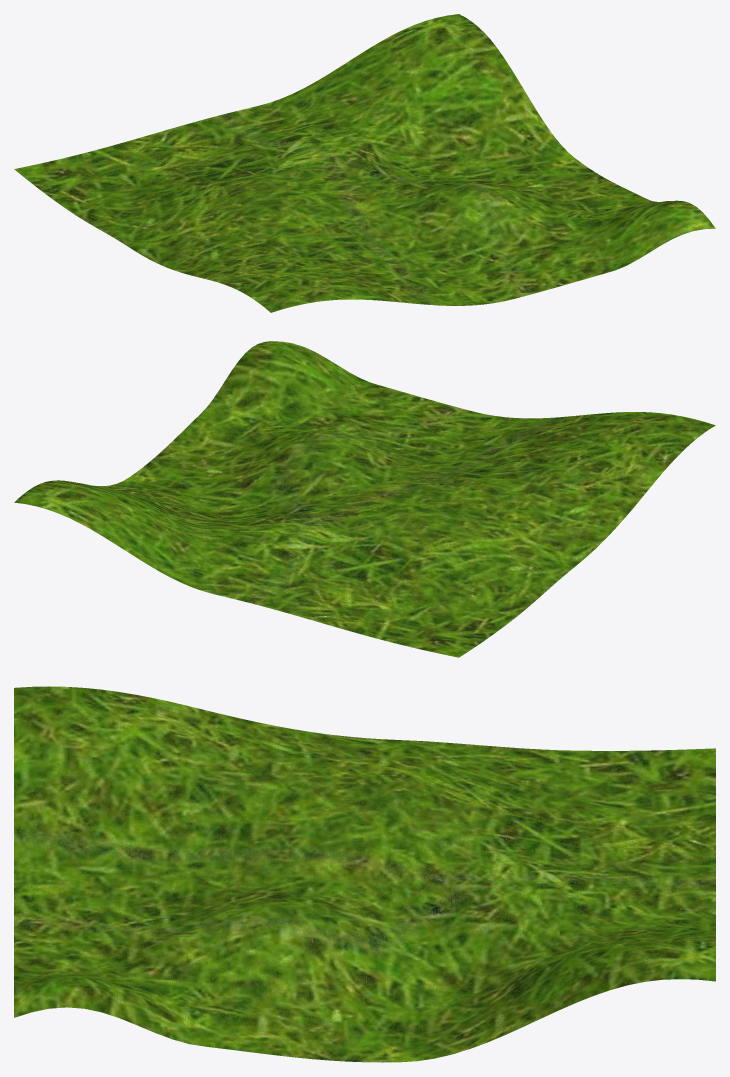
Rendered from bifurcada_vertical.dae.
3 views of the same model, one above another, from view 1: azimuth 30°, elevation 25°; view 2: azimuth 150°, elevation 25°; view 3: azimuth 270°, elevation 25° (orthographic). The views are drawn at different scales.
Parts seen in each view (by area): view 1: group_0; view 2: group_0; view 3: group_0.
Part boxes in pixels (<box>): group_0: <box>14,14,715,312</box>; group_0: <box>14,341,715,657</box>; group_0: <box>14,686,715,1062</box>.
Size of the model in its own units: 30.48 by 30.48 by 4.12.
1 material, 1 textured.
